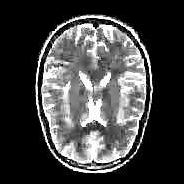Normal_Brain: (13, 1, 184, 184)
